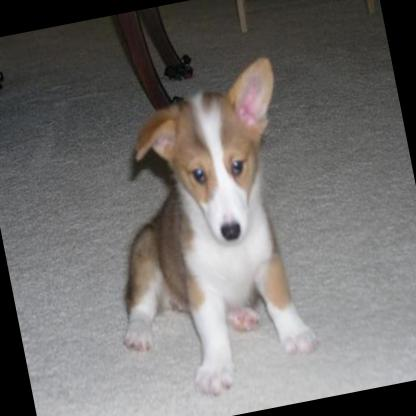Pembroke: (73, 54, 331, 408)
